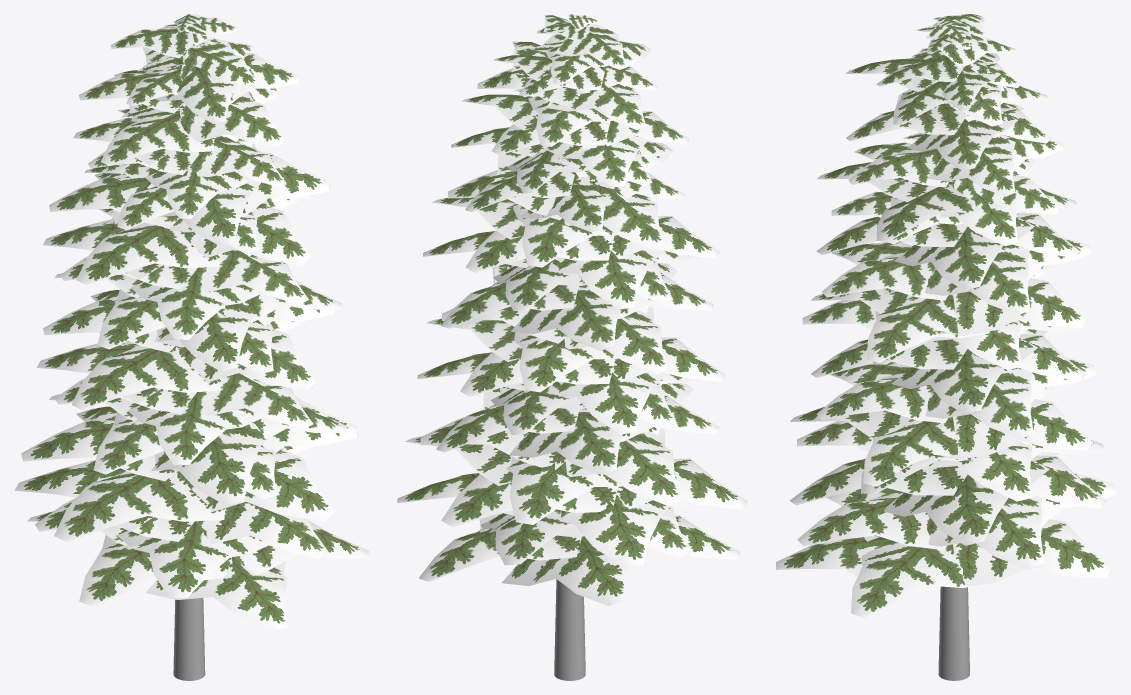
File: mod_scotspinetree.fbx
3 renders of one model, left to right at view 1: azimuth 30°, elevation 25°; view 2: azimuth 150°, elevation 25°; view 3: azimuth 270°, elevation 25°, orthographic.
Visible parts, largest first — view 1: polySurface2, polySurface1; view 2: polySurface2, polySurface1; view 3: polySurface2, polySurface1.
Part boxes in pixels (x1,y1,x2,y2): polySurface2: (14, 14, 368, 631); polySurface1: (173, 14, 205, 680); polySurface2: (397, 14, 747, 605); polySurface1: (554, 18, 585, 680); polySurface2: (776, 14, 1116, 617); polySurface1: (938, 21, 969, 680).
Bounding box in the file's own units: 305 × 626 × 297.
